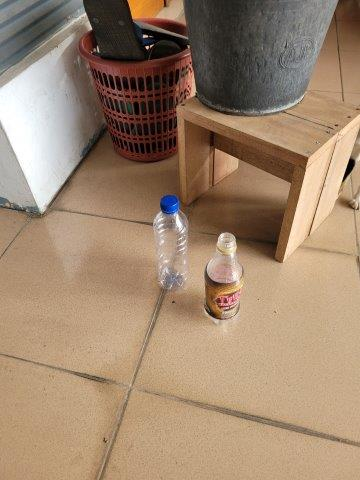botolplastik: (203, 235, 245, 327), (154, 197, 189, 292)
